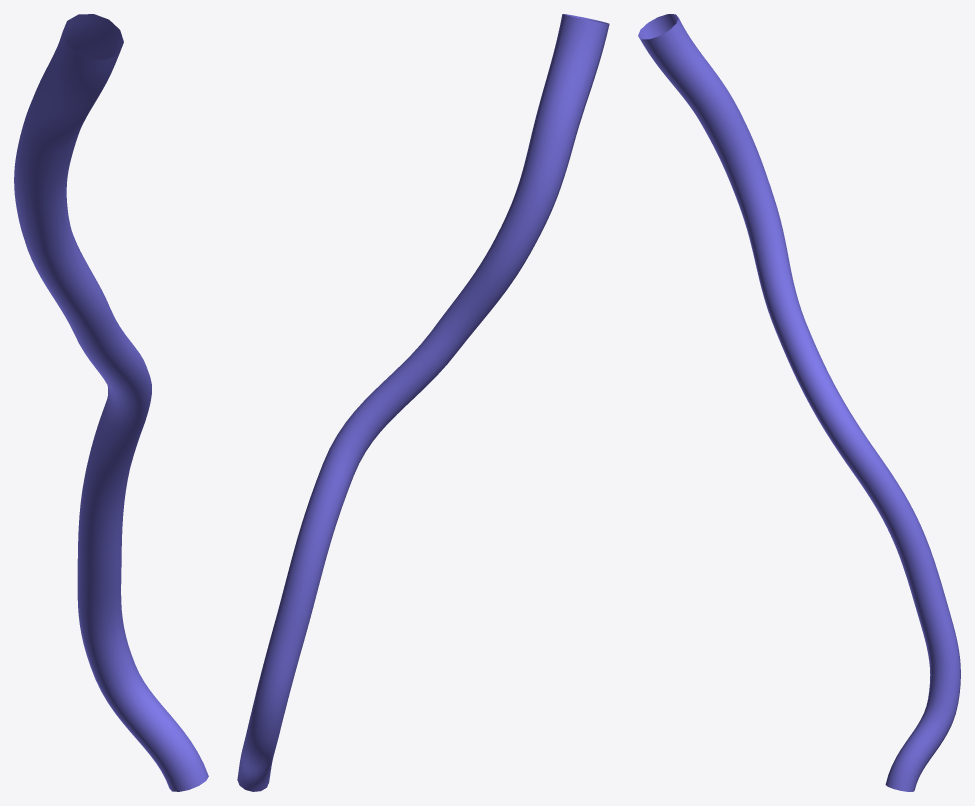
The model's file is Popliteal_vein.l_BezierCurve.318.glb.
3 views of the same model, side by side, from view 1: azimuth 30°, elevation 25°; view 2: azimuth 150°, elevation 25°; view 3: azimuth 270°, elevation 25° (orthographic). The views are drawn at different scales.
Visible parts, largest first — view 1: Popliteal_vein.l_BezierCurve.318; view 2: Popliteal_vein.l_BezierCurve.318; view 3: Popliteal_vein.l_BezierCurve.318.
Part boxes in pixels (x1=…): Popliteal_vein.l_BezierCurve.318: x1=14, y1=14, x2=208, y2=791; Popliteal_vein.l_BezierCurve.318: x1=237, y1=14, x2=609, y2=791; Popliteal_vein.l_BezierCurve.318: x1=638, y1=14, x2=960, y2=791.
Bounding box in the file's own units: 0.0567 × 0.1667 × 0.0716.
